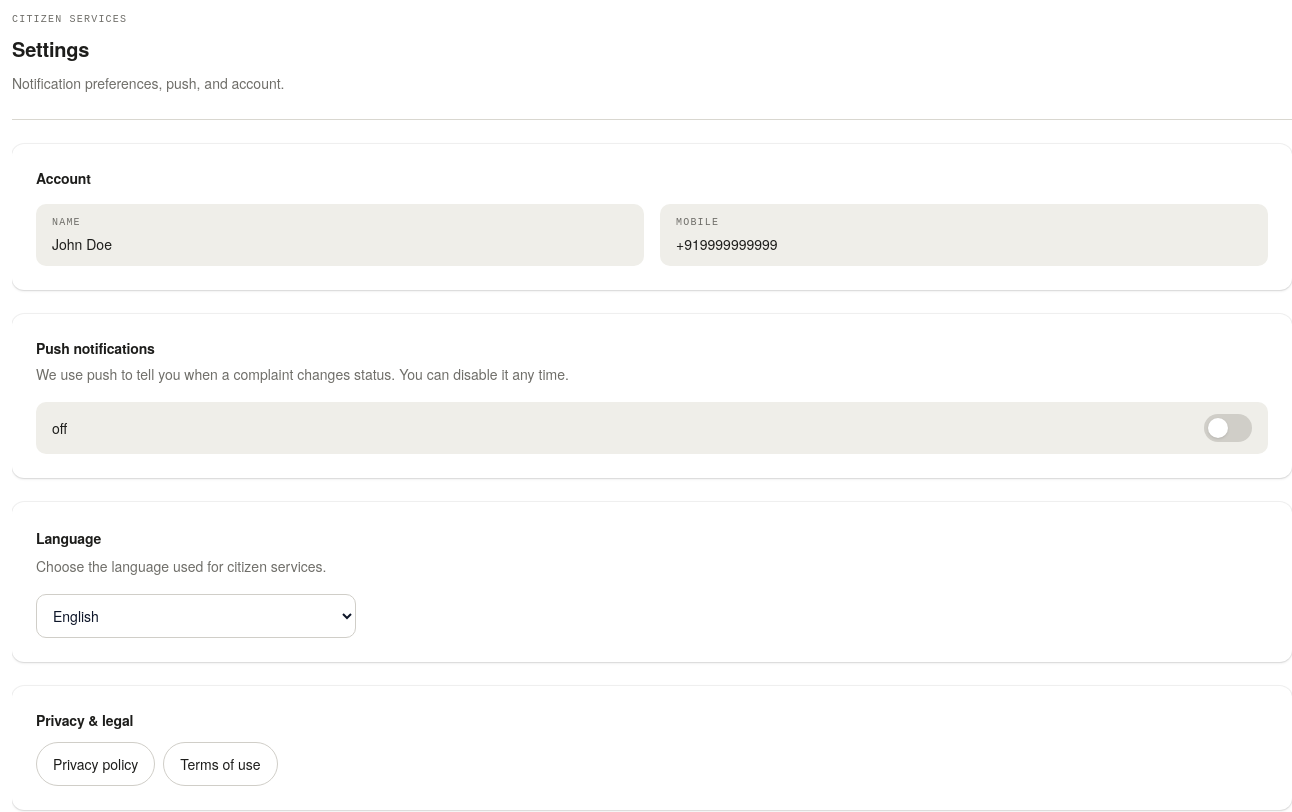
Test: SettingsPage › switches the citizen UI to Kannada and persists the choice
The width and height of the screenshot is (1292, 812).
Select "ಕನ್ನಡ (Kannada)" in the dropdown labelled "Language" at point(196, 616), box 36,594 -> 356,638
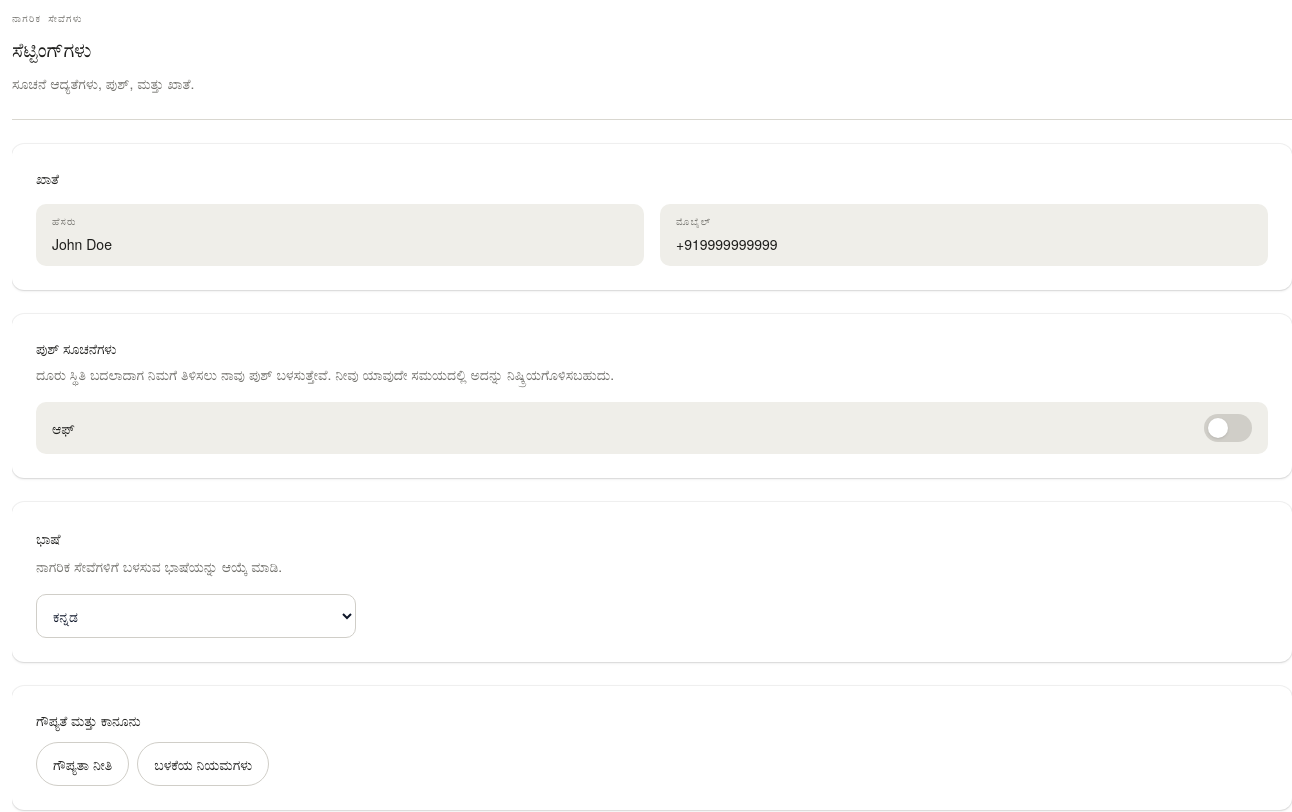
Now the heading "ಸೆಟ್ಟಿಂಗ್‌ಗಳು" is shown, box 12,34 -> 91,63
